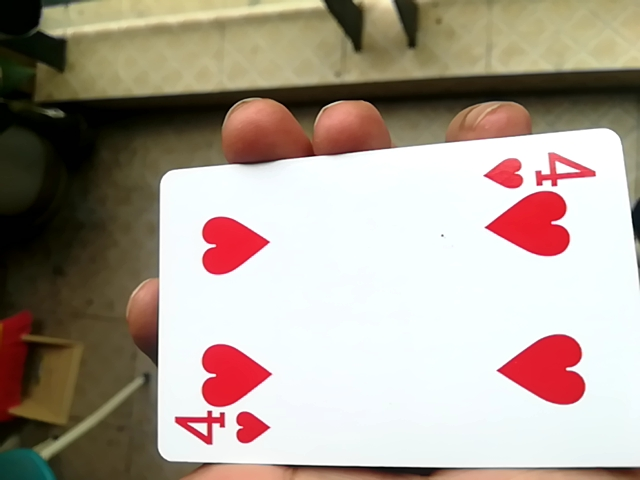hx 4: (150, 123, 635, 480)
